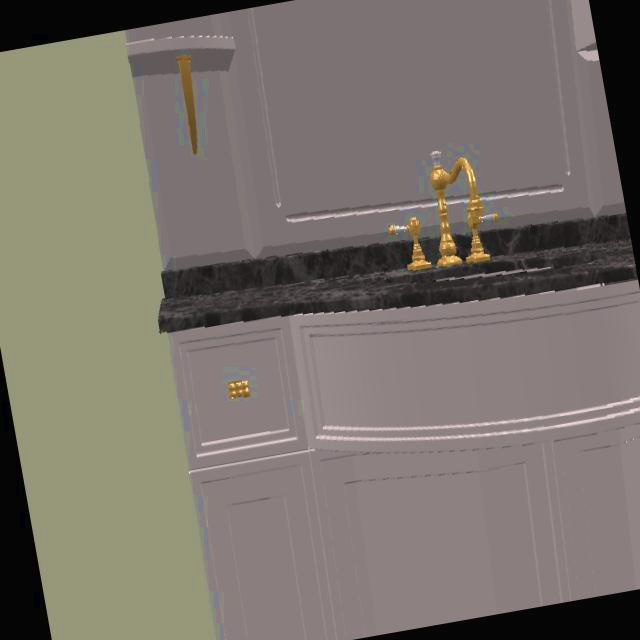washbasin: (159, 220, 638, 333)
